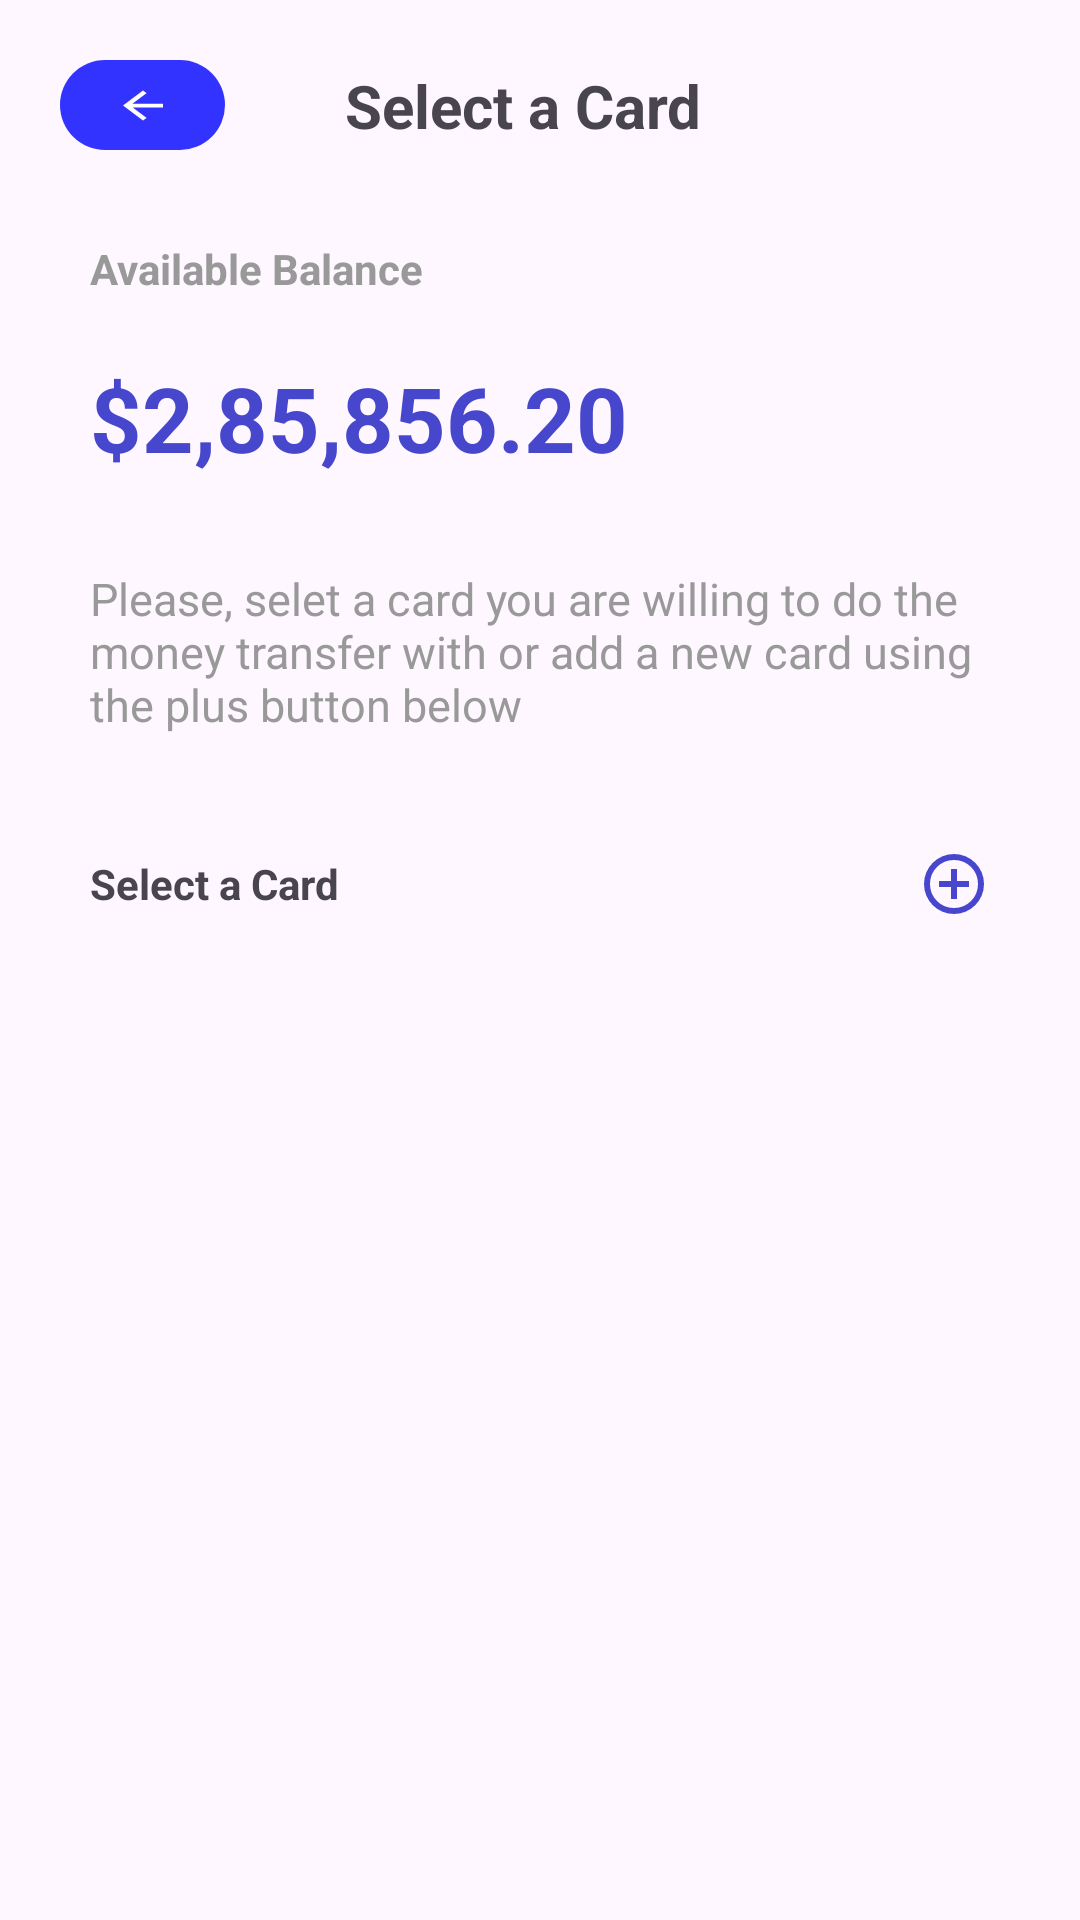

Icons on this 1080px×1920px Android screen, each with the point to tap as (x,y):
back: (142,105)
